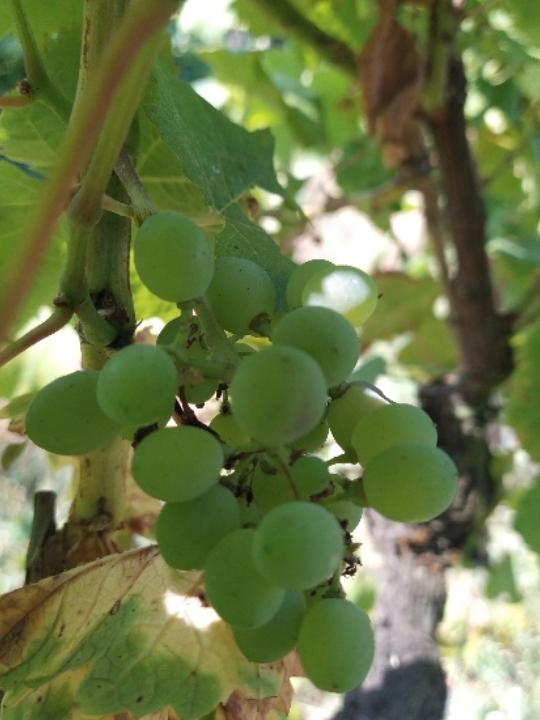grape: (24, 210, 464, 696)
